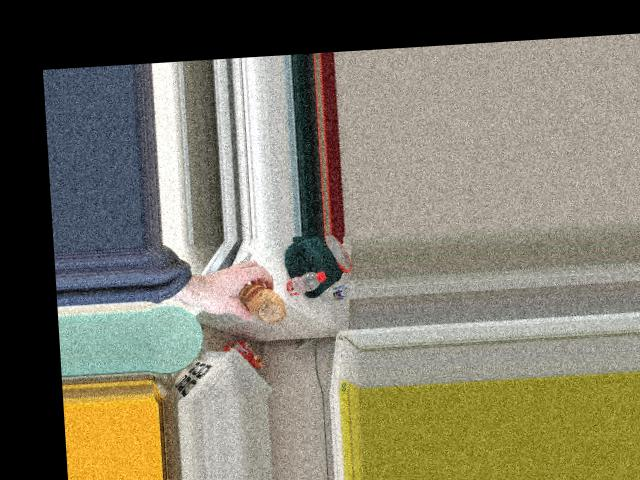sweet_potato: (237, 283, 288, 324)
